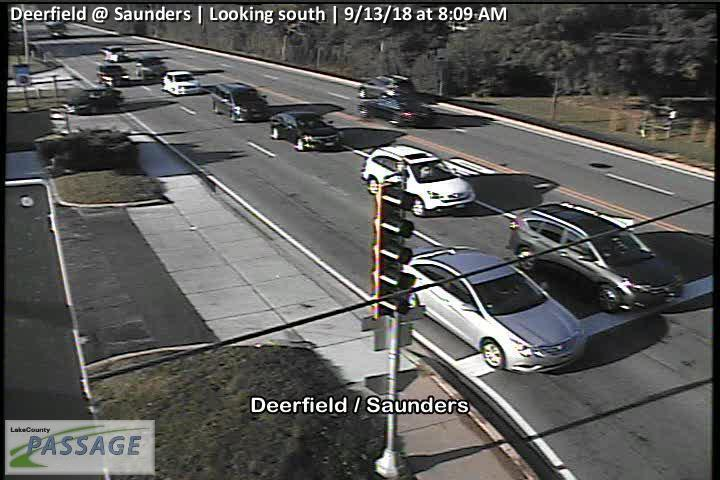SUV: (508, 202, 684, 313), (361, 144, 476, 217), (210, 82, 270, 122), (359, 73, 416, 102), (161, 71, 200, 95), (96, 64, 130, 88), (135, 57, 168, 77), (98, 45, 128, 63)
Sedan: (400, 244, 586, 373), (268, 110, 344, 152), (358, 95, 433, 127)
